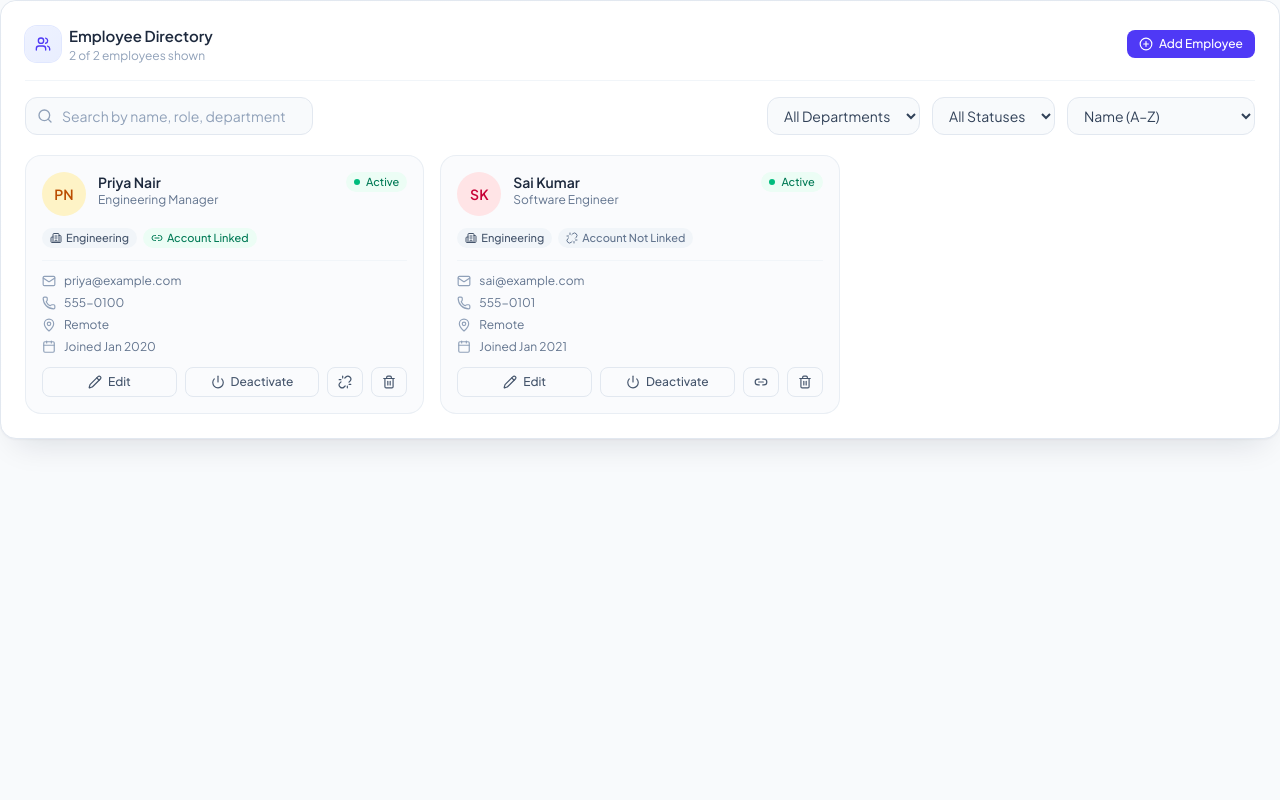
Test: EmployeesPage employee-profile linking › shows a conflict error inside the link dialog without closing it
Click the button named "Link account for Sai Kumar".
click(761, 382)  # box [743,367,779,397]
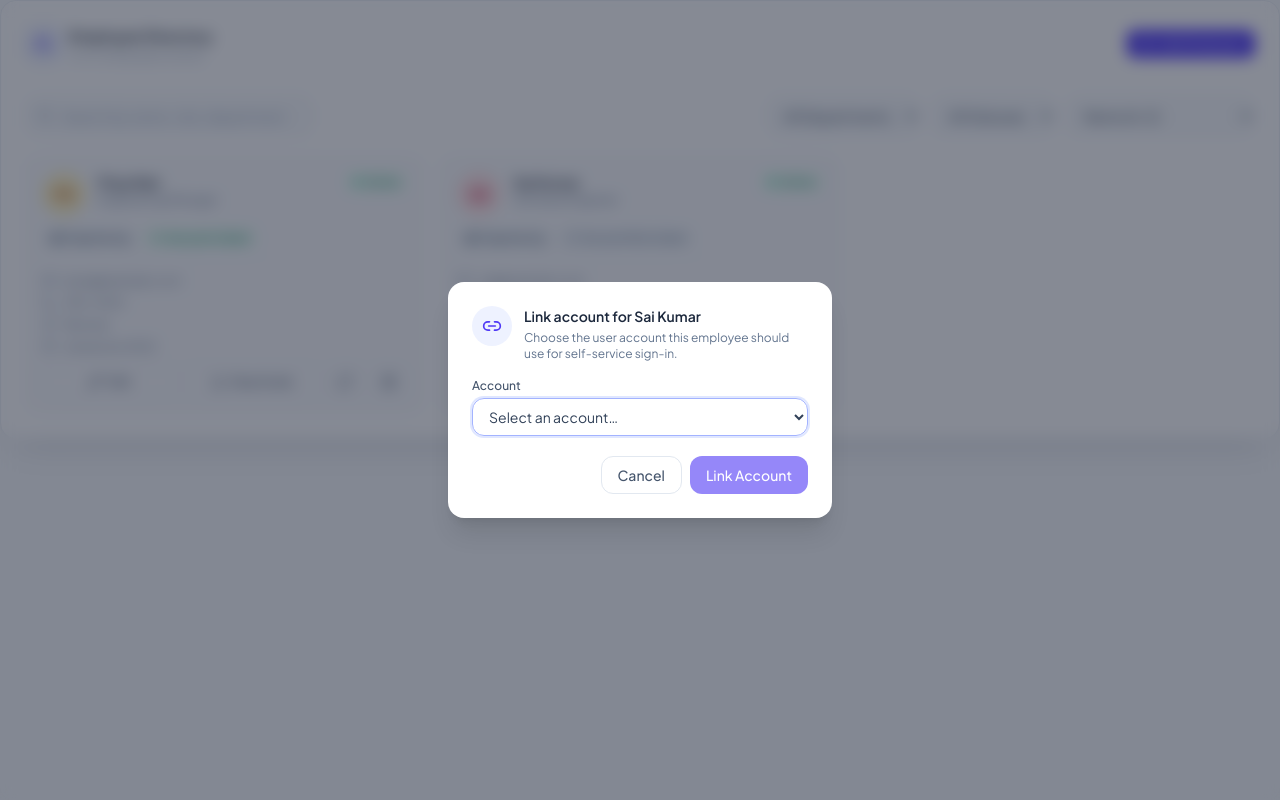
Select "New Hire (new.hire@example.com)" in the dropdown labelled "Account" at (640, 417), box [472,398,808,436]
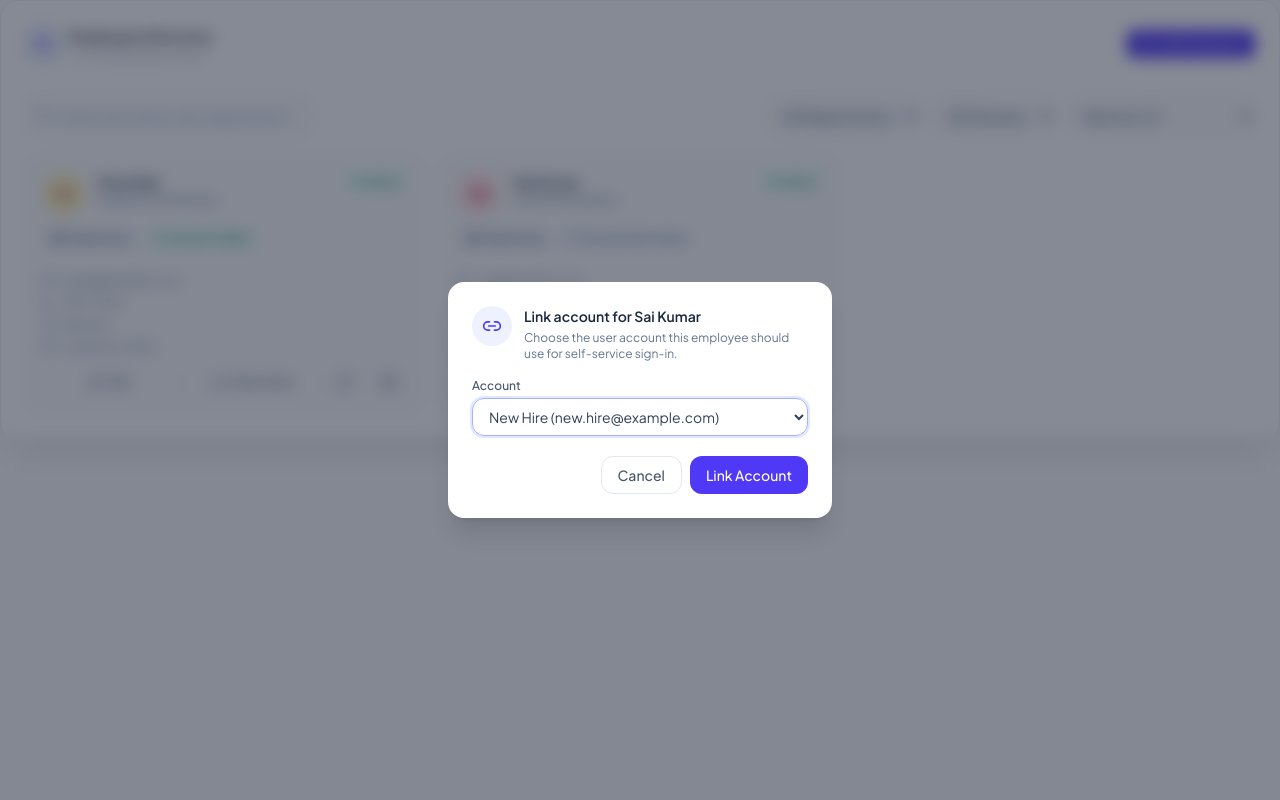
Click the button "Link Account".
click(749, 475)  # box [690,456,808,494]
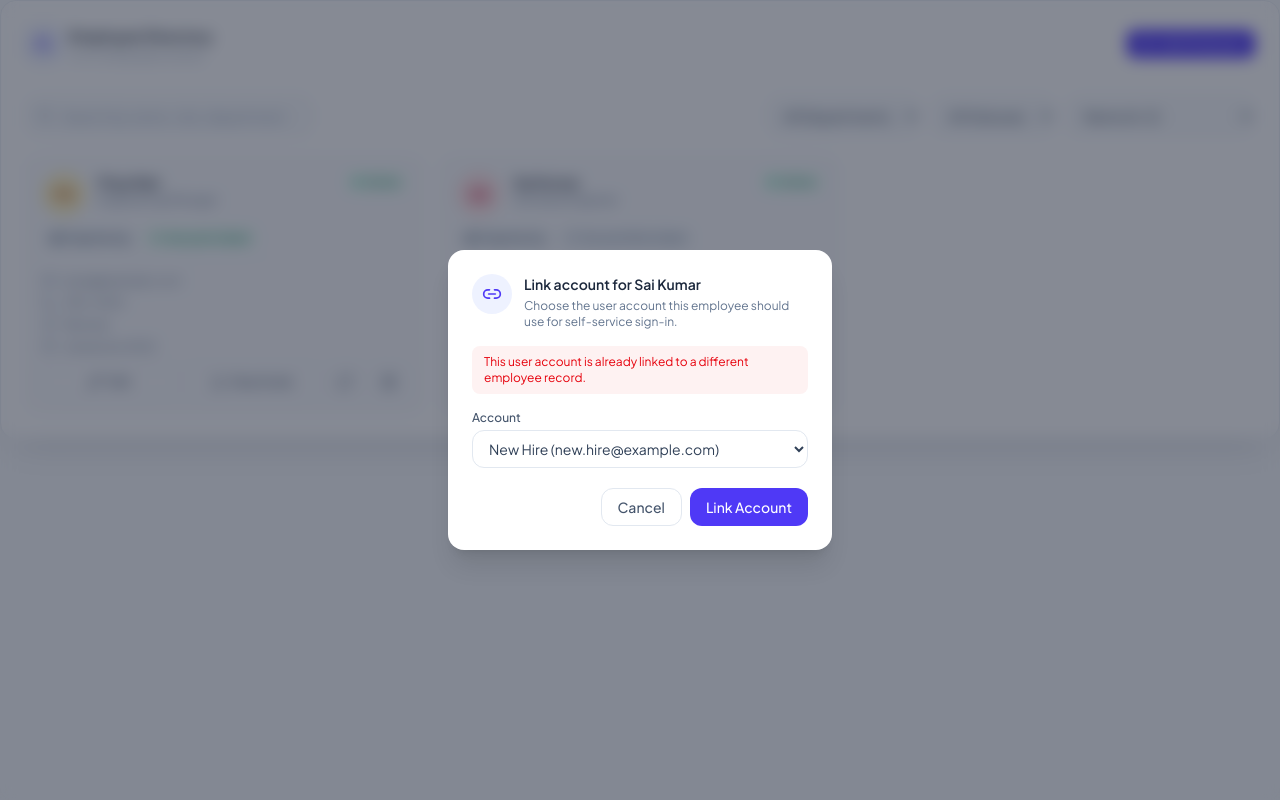
Expected: the dialog is shown, [448,250,832,550]
Expected: the text "This user account is already linked to a different employee record." is shown, [472,346,808,394]
